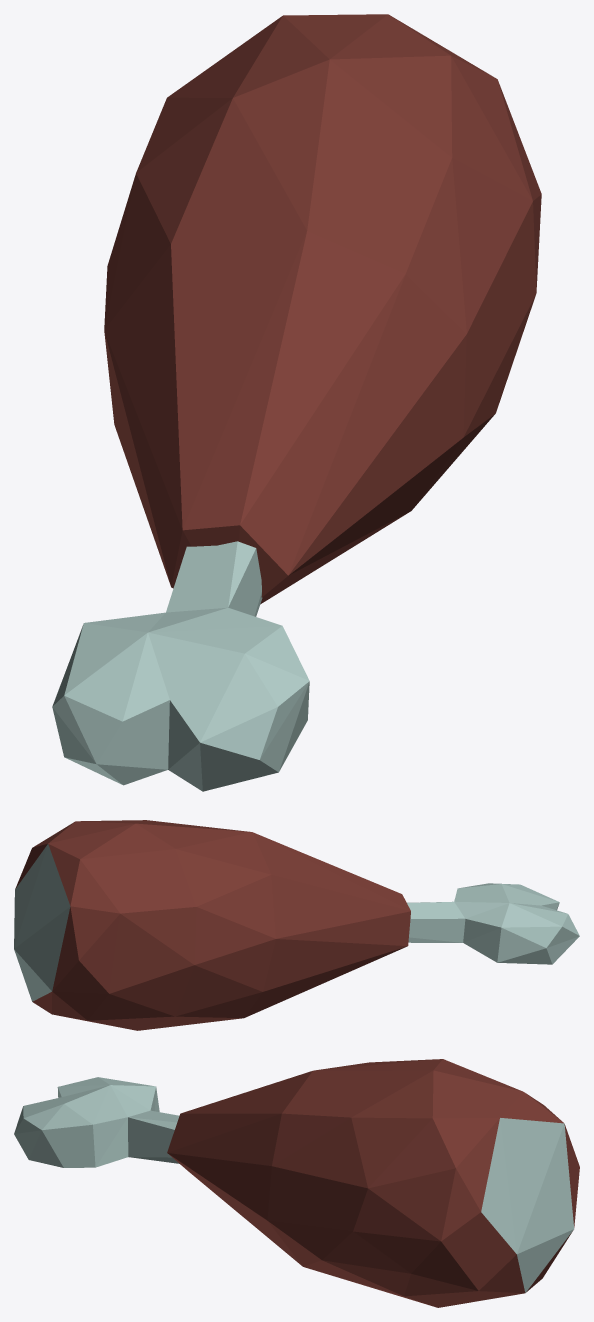
Rendered from Comida_Pierna.fbx.
The picture shows the model from 3 angles, top to bottom: view 1: azimuth 30°, elevation 25°; view 2: azimuth 150°, elevation 25°; view 3: azimuth 270°, elevation 25°; orthographic projection. The views are drawn at different scales.
Parts seen in each view (by area): view 1: Pierna; view 2: Pierna; view 3: Pierna.
Part boxes in pixels (<box>): Pierna: <box>52,14,541,791</box>; Pierna: <box>14,820,579,1030</box>; Pierna: <box>14,1059,579,1307</box>.
Size of the model in its own units: 48.91 by 23.91 by 53.86.
